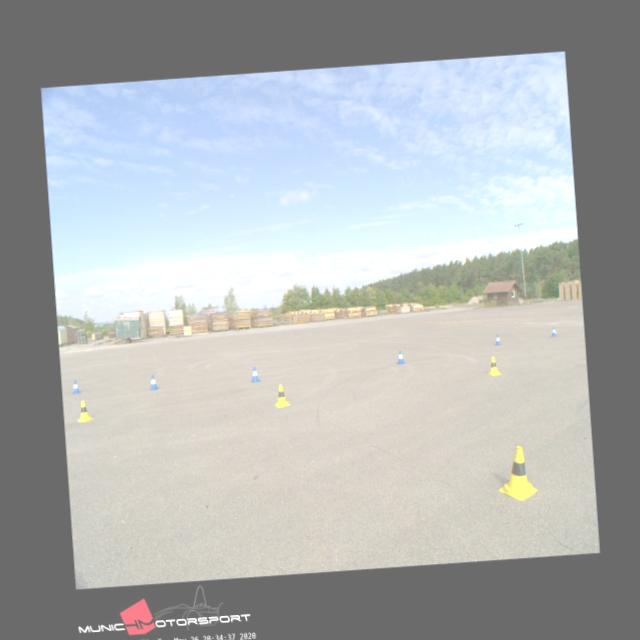blue_cone: (148, 374, 158, 389), (394, 349, 404, 363), (249, 366, 259, 380), (71, 378, 80, 392), (494, 334, 501, 344), (550, 326, 556, 336)
yellow_cone: (496, 445, 536, 501), (272, 383, 290, 407), (75, 398, 93, 421), (486, 355, 500, 375)
